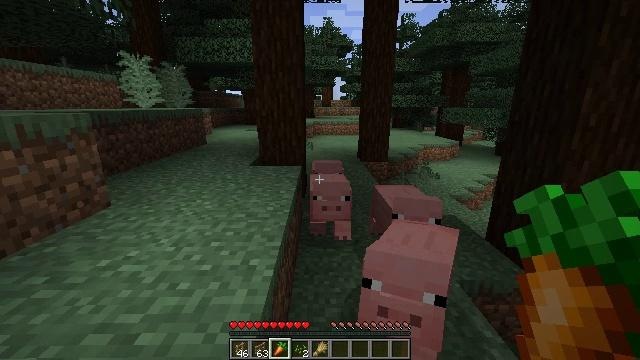pig: (361, 222, 459, 350), (371, 184, 445, 240), (310, 174, 352, 240)
